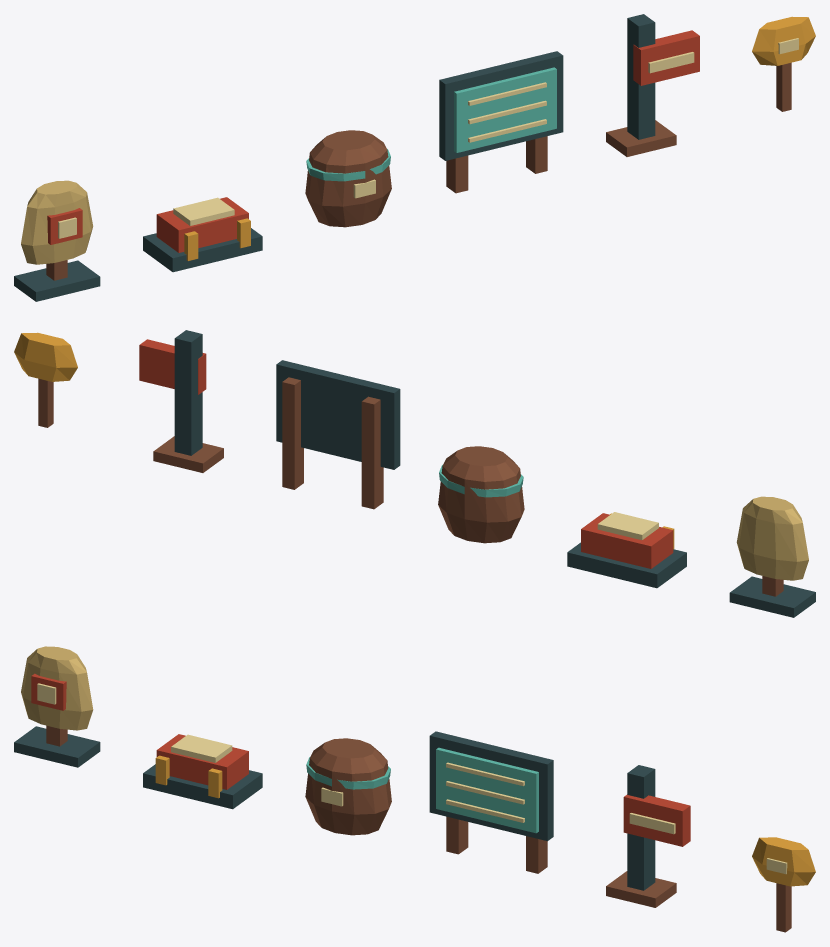
File: nat-iansan-training-model.obj
3 renders of one model, top to bottom at view 1: azimuth 30°, elevation 25°; view 2: azimuth 150°, elevation 25°; view 3: azimuth 330°, elevation 25°, orthographic.
Visible parts, largest first — view 1: PracticeGear; view 2: PracticeGear; view 3: PracticeGear.
Part boxes in pixels (<box>): PracticeGear: <box>14,14,815,301</box>; PracticeGear: <box>14,330,815,617</box>; PracticeGear: <box>14,646,815,932</box>.
Size of the model in its own units: 7.69 by 1.14 by 0.565.
